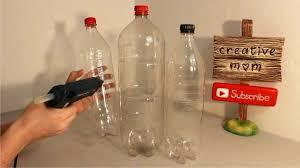Plastic bottle: (160, 19, 212, 166), (113, 6, 163, 157)
